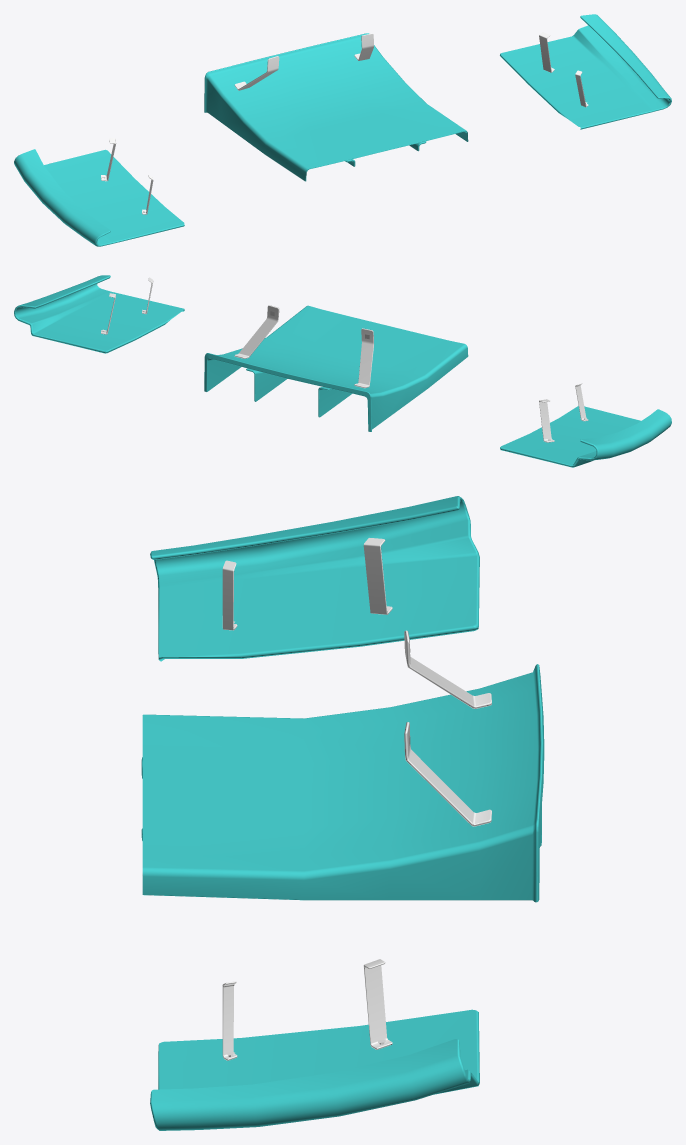
Rendered from Car_Nissan_SkylineGTRVspecR34_1999_Diffuser_SetEE_AltA.fbx.
3 views of the same model, one above another, from view 1: azimuth 30°, elevation 25°; view 2: azimuth 150°, elevation 25°; view 3: azimuth 270°, elevation 25° (orthographic). The views are drawn at different scales.
Parts seen in each view (by area): view 1: Diffuser 6; view 2: Diffuser 6; view 3: Diffuser 6.
Part boxes in pixels (x1,y1,x2,y2): Diffuser 6: [14, 14, 671, 246]; Diffuser 6: [14, 275, 671, 467]; Diffuser 6: [141, 496, 544, 1130].
Size of the model in its own units: 1.96 by 0.2757 by 0.5768.
